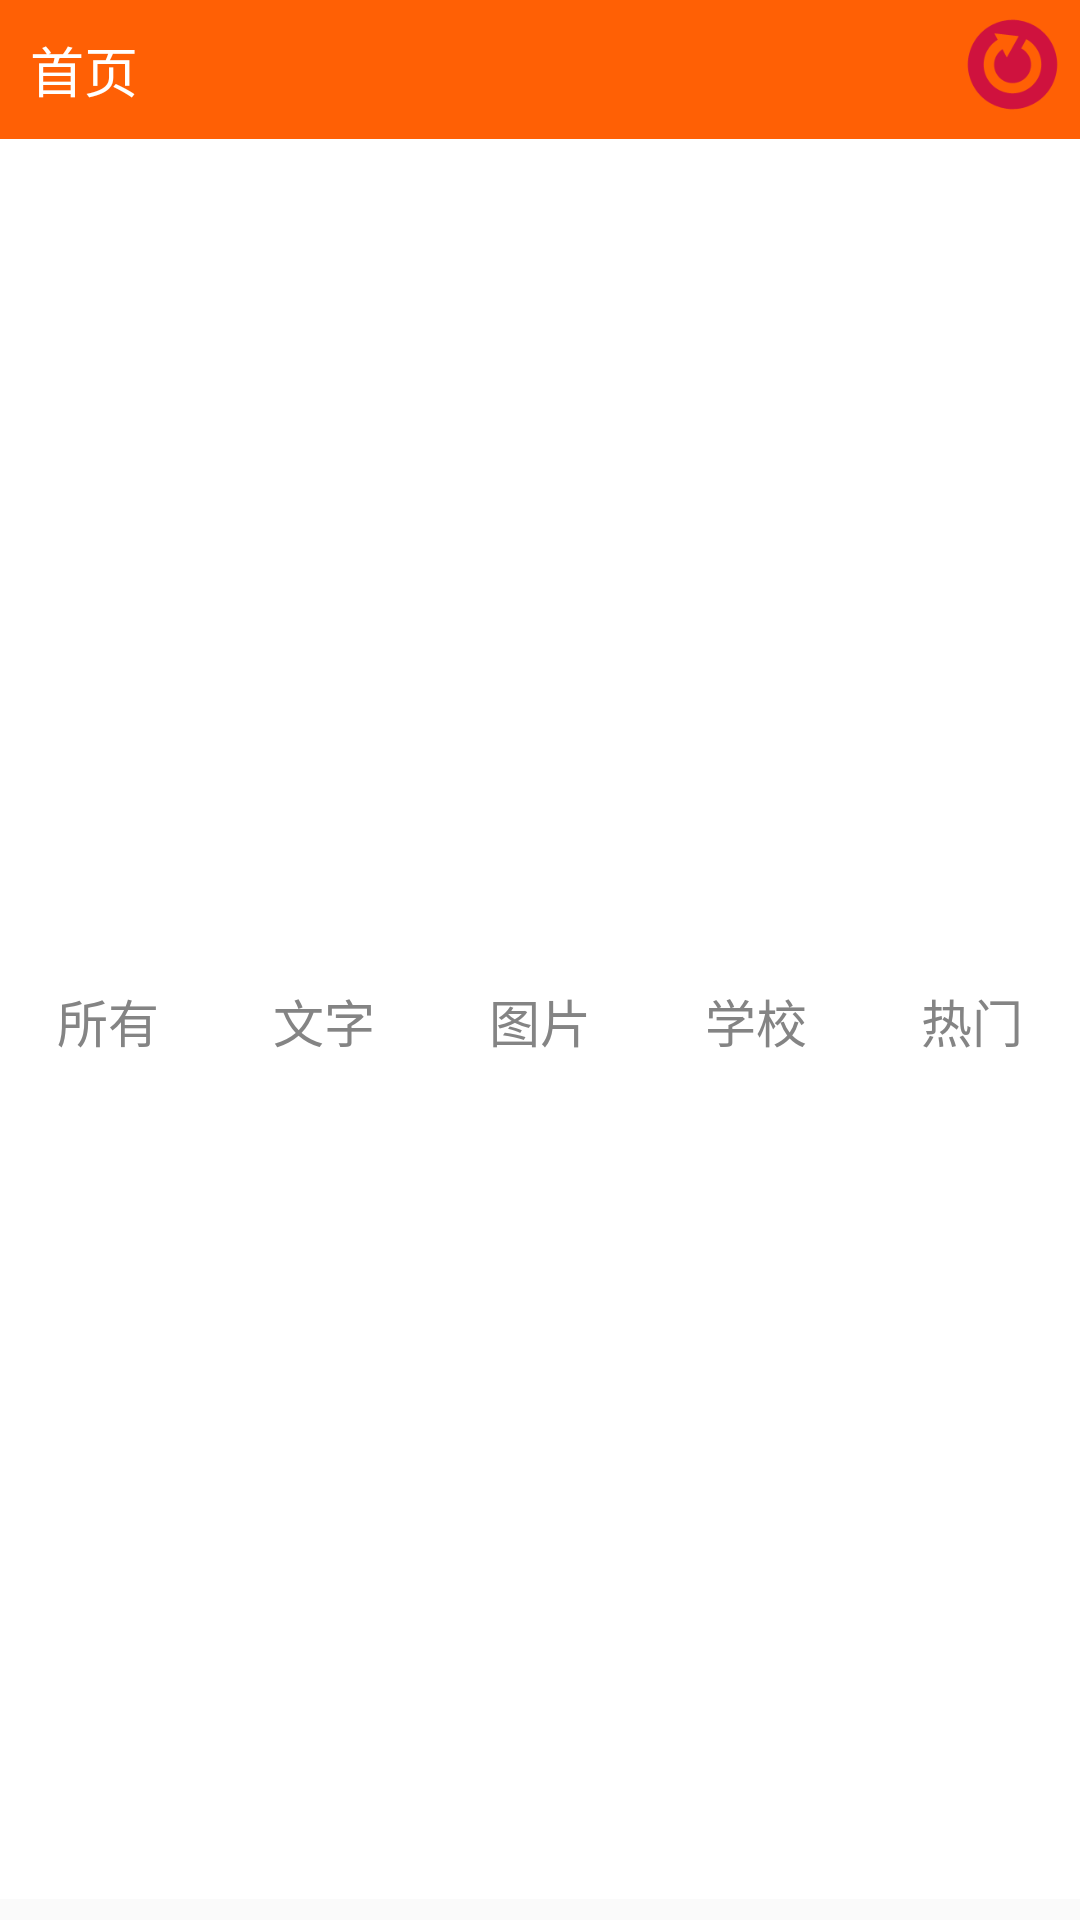

Point at icon controls on the screen. Image size 1080px×1920px, points as (x,y).
refresh: (1012,64)
